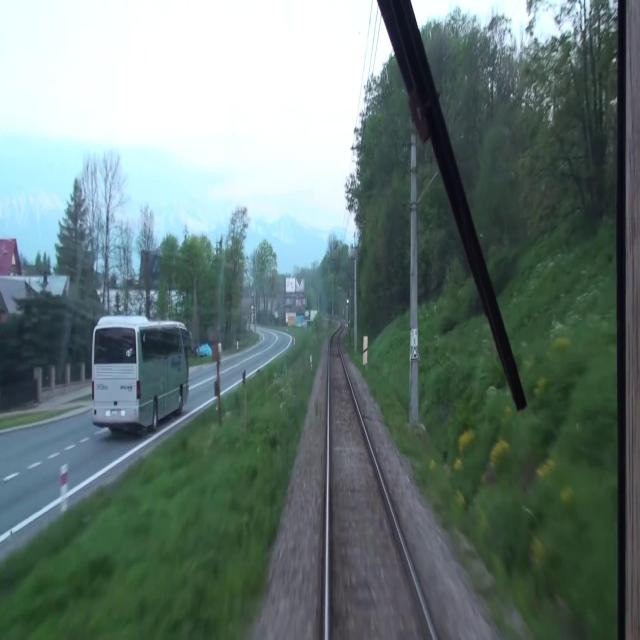rail-track: (328, 332, 432, 639)
